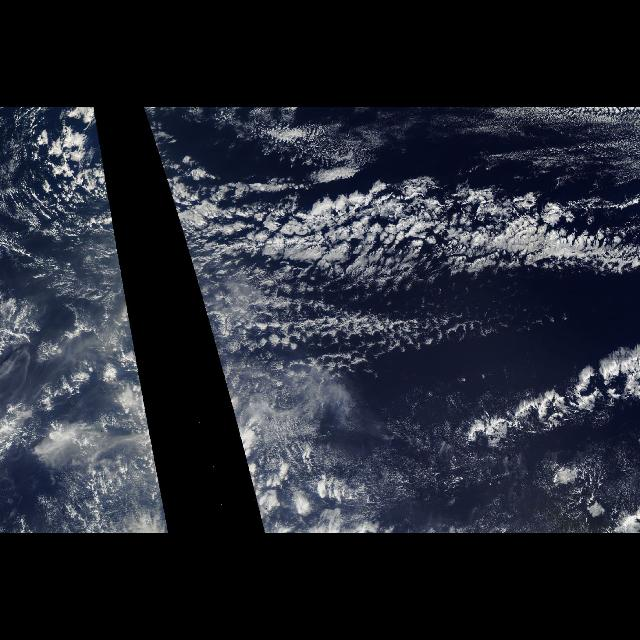Fish: (168, 181, 640, 329)
Flower: (160, 157, 636, 296), (461, 340, 635, 454), (72, 157, 126, 296)
Gravel: (193, 268, 571, 376), (76, 268, 140, 376)
Sugar: (250, 394, 638, 532), (175, 109, 640, 208), (3, 404, 169, 532)
